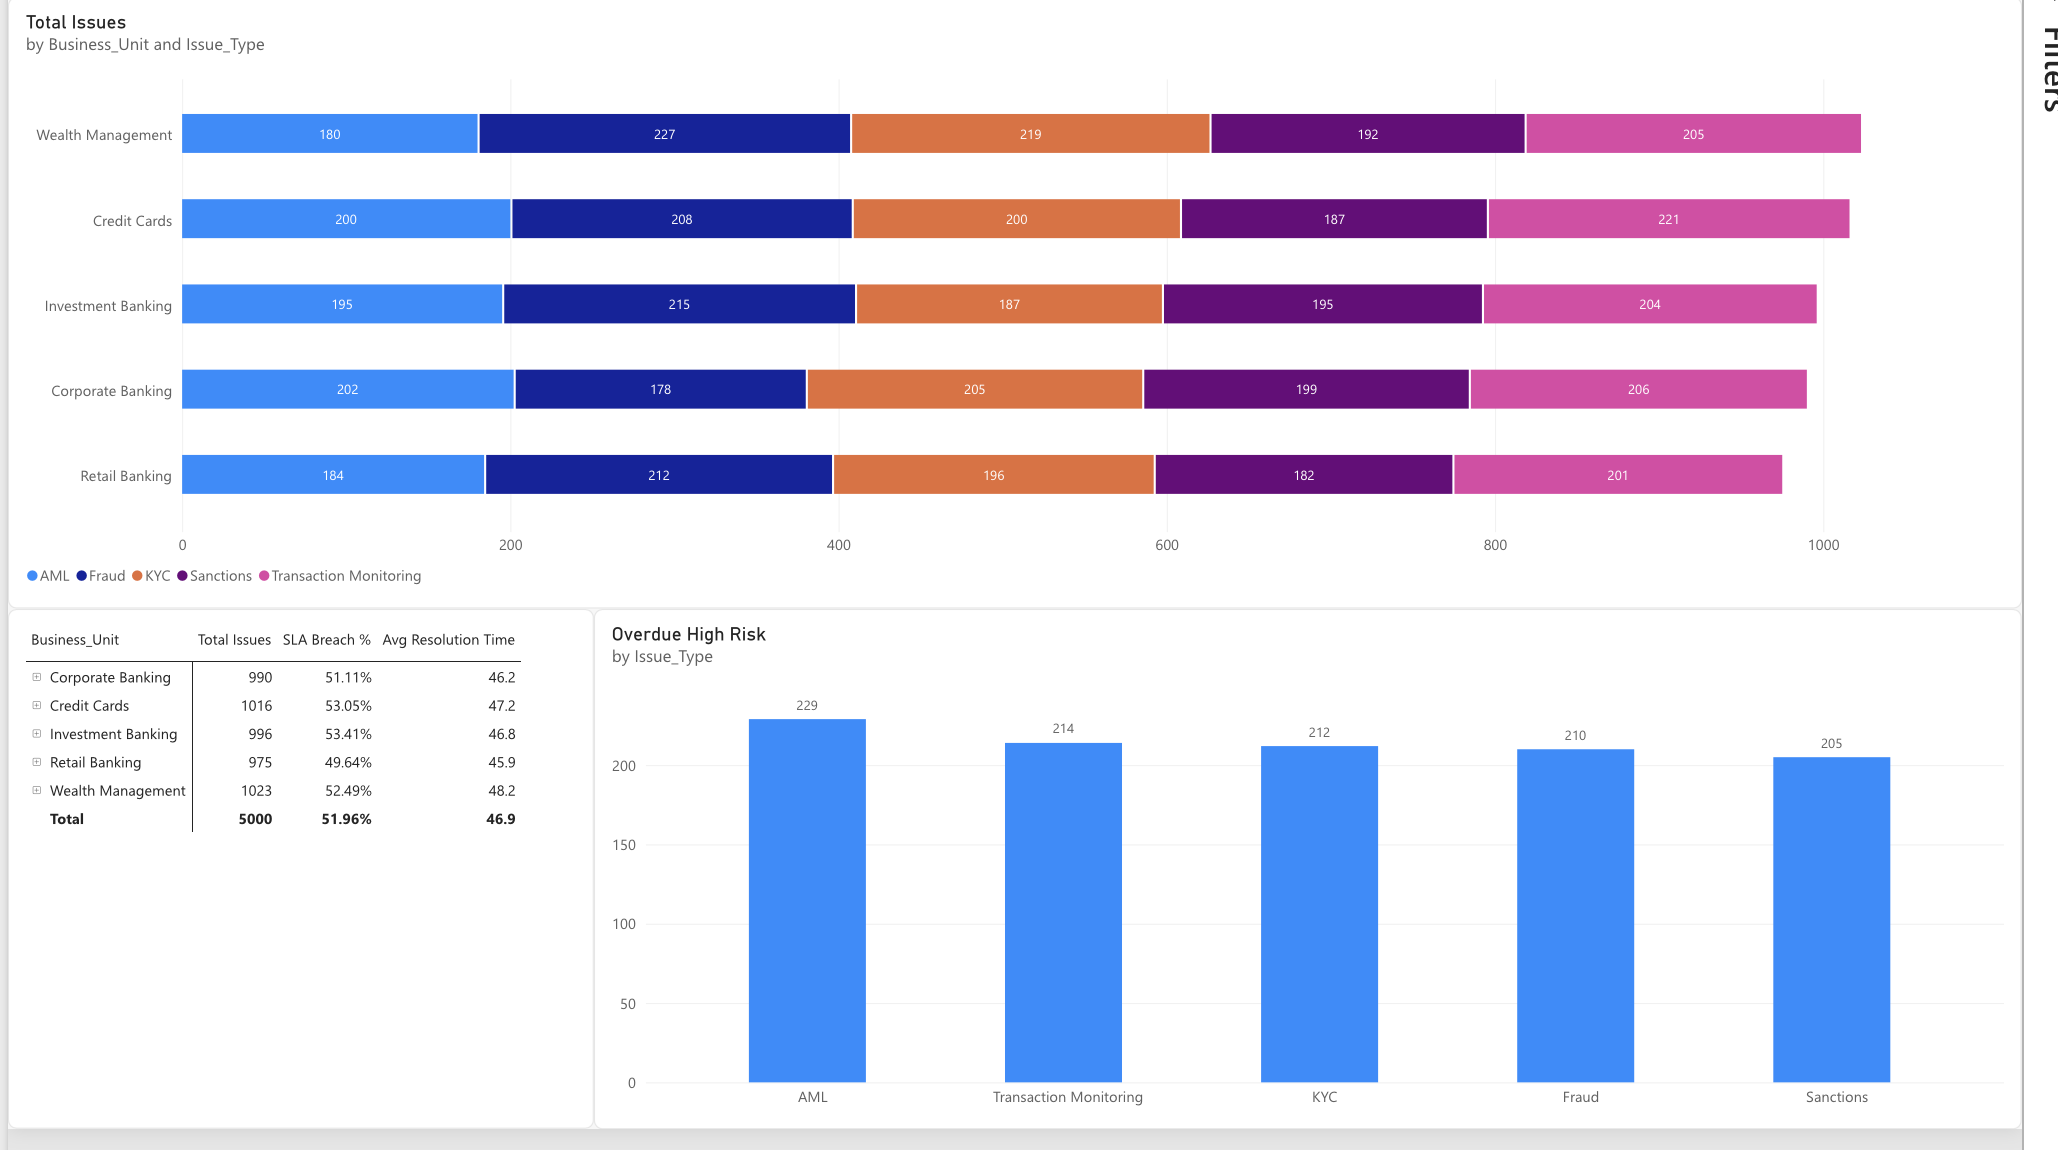

What the dashboard file says about the page in this screenshot:
{"tool":"powerbi","page":{"name":"Root Cause Analysis","canvas":[1920,1080],"ordinal":1},"visuals":[{"type":"barChart","fields":{"Category":["financial_crimes_governance_logs.Business_Unit"],"Series":["financial_crimes_governance_logs.Issue_Type"],"Y":["financial_crimes_governance_logs.Total Issues"]},"box":[0,0,1920,583.4],"z":0},{"type":"pivotTable","fields":{"Rows":["financial_crimes_governance_logs.Business_Unit","financial_crimes_governance_logs.Issue_Type"],"Values":["financial_crimes_governance_logs.Total Issues","financial_crimes_governance_logs.SLA Breach %","financial_crimes_governance_logs.Avg Resolution Time"]},"box":[0,583.4,558.6,495.7],"z":1},{"type":"clusteredColumnChart","fields":{"Category":["financial_crimes_governance_logs.Issue_Type"],"Y":["financial_crimes_governance_logs.Overdue High Risk"]},"box":[559,583,1361,496],"z":2}]}

Visuals, with their boxes in screenshot pixels (x1, y1, x2, y2), scaled from the page's 1920x1080 canvas onto the 2058x1150 screenshot:
barChart - financial_crimes_governance_logs.Business_Unit x financial_crimes_governance_logs.Issue_Type: x1=0, y1=0, x2=2057, y2=621
pivotTable - financial_crimes_governance_logs.Business_Unit x financial_crimes_governance_logs.Issue_Type: x1=0, y1=621, x2=599, y2=1149
clusteredColumnChart - financial_crimes_governance_logs.Issue_Type x financial_crimes_governance_logs.Overdue High Risk: x1=599, y1=621, x2=2057, y2=1149
